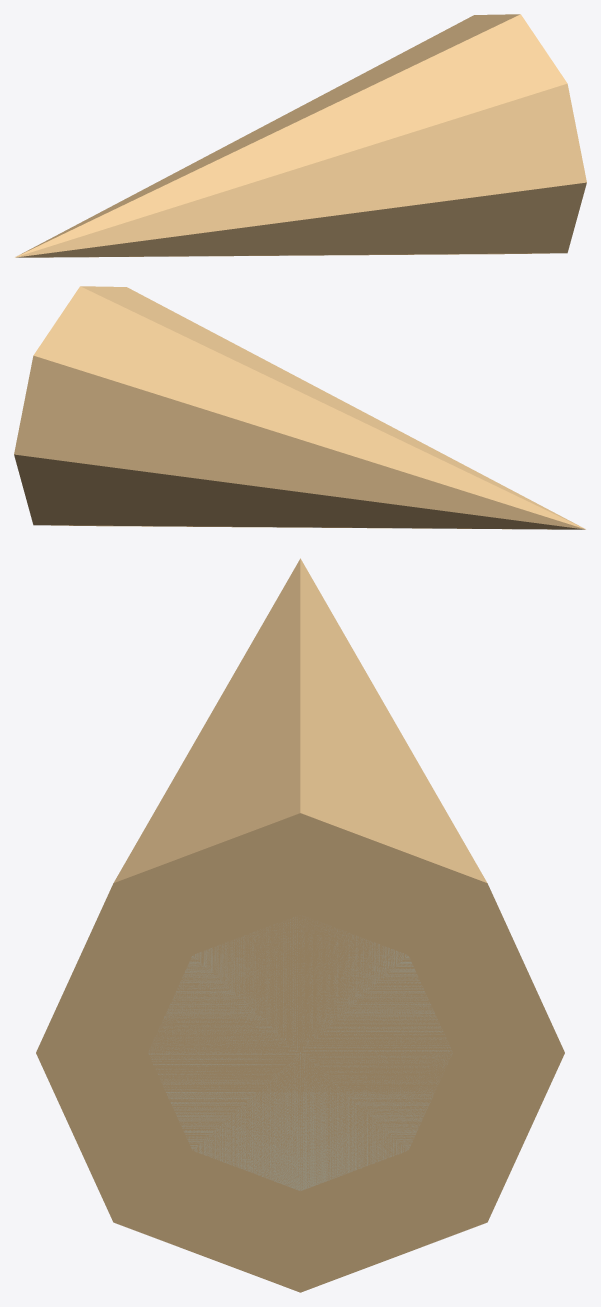
File: llama_turbo.glb
The picture shows the model from 3 angles, top to bottom: view 1: azimuth 30°, elevation 25°; view 2: azimuth 150°, elevation 25°; view 3: azimuth 270°, elevation 25°; orthographic projection. The views are drawn at different scales.
Parts seen in each view (by area): view 1: llama_turbo; view 2: llama_turbo; view 3: llama_turbo.
Boxes of the visible parts, bbox=[...] form: llama_turbo: bbox=[15, 14, 586, 257]; llama_turbo: bbox=[14, 286, 585, 529]; llama_turbo: bbox=[36, 558, 564, 1292].
Size of the model in its own units: 1.15 by 0.52 by 0.52.
